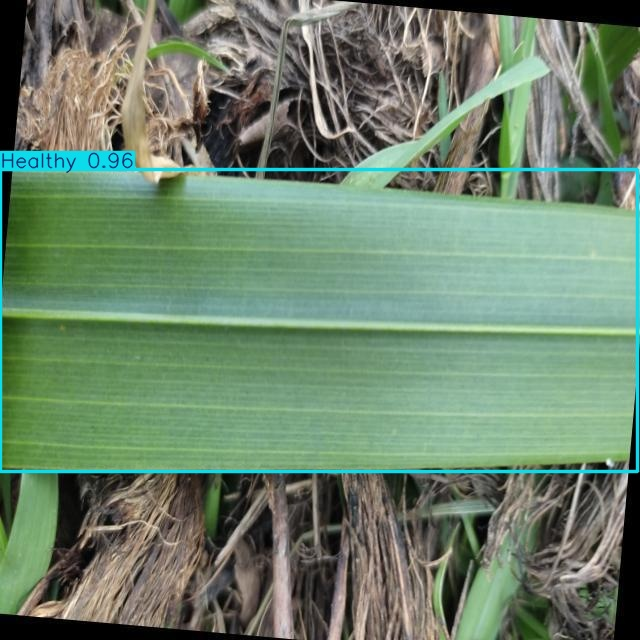Healthy: (0, 170, 638, 471)
